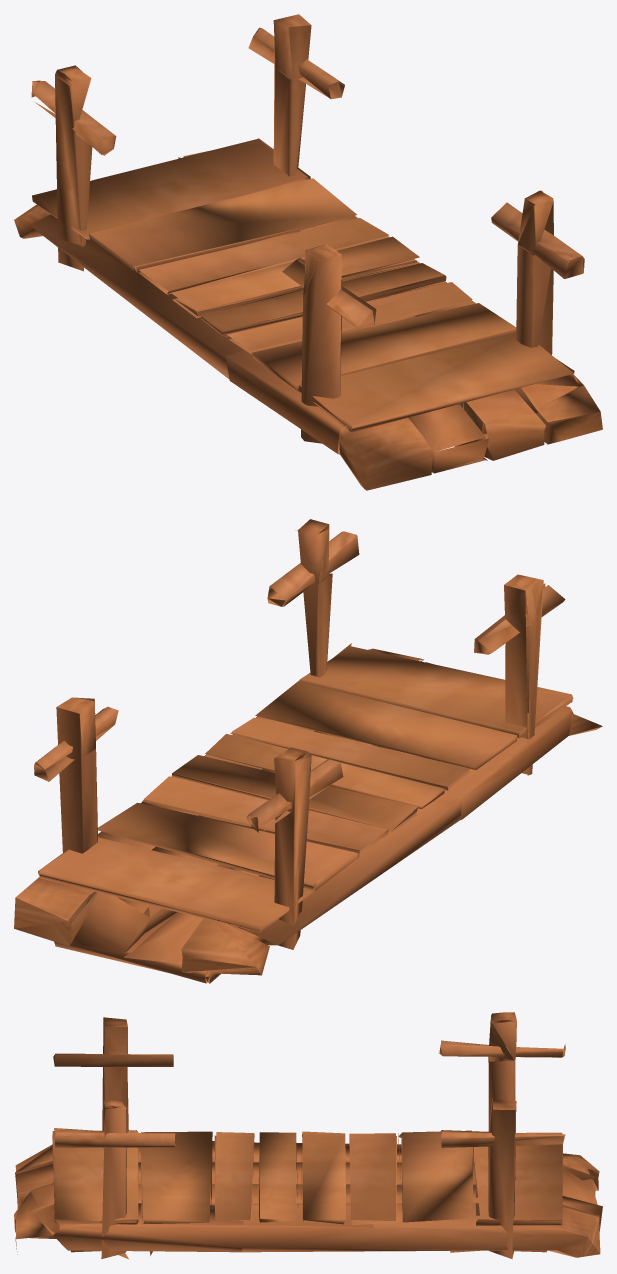
Rendered from bridge_plank.glb.
3 renders of one model, top to bottom at view 1: azimuth 30°, elevation 25°; view 2: azimuth 150°, elevation 25°; view 3: azimuth 270°, elevation 25°, orthographic. The views are drawn at different scales.
Parts seen in each view (by area): view 1: Mesh_0; view 2: Mesh_0; view 3: Mesh_0.
Boxes of the visible parts, x1,y1,x2,y2 form: Mesh_0: [14, 14, 602, 490]; Mesh_0: [14, 519, 602, 983]; Mesh_0: [14, 1012, 602, 1259].
Size of the model in its own units: 0.8652 by 0.7373 by 2.22.
Materials: 1 (1 with a texture image).
